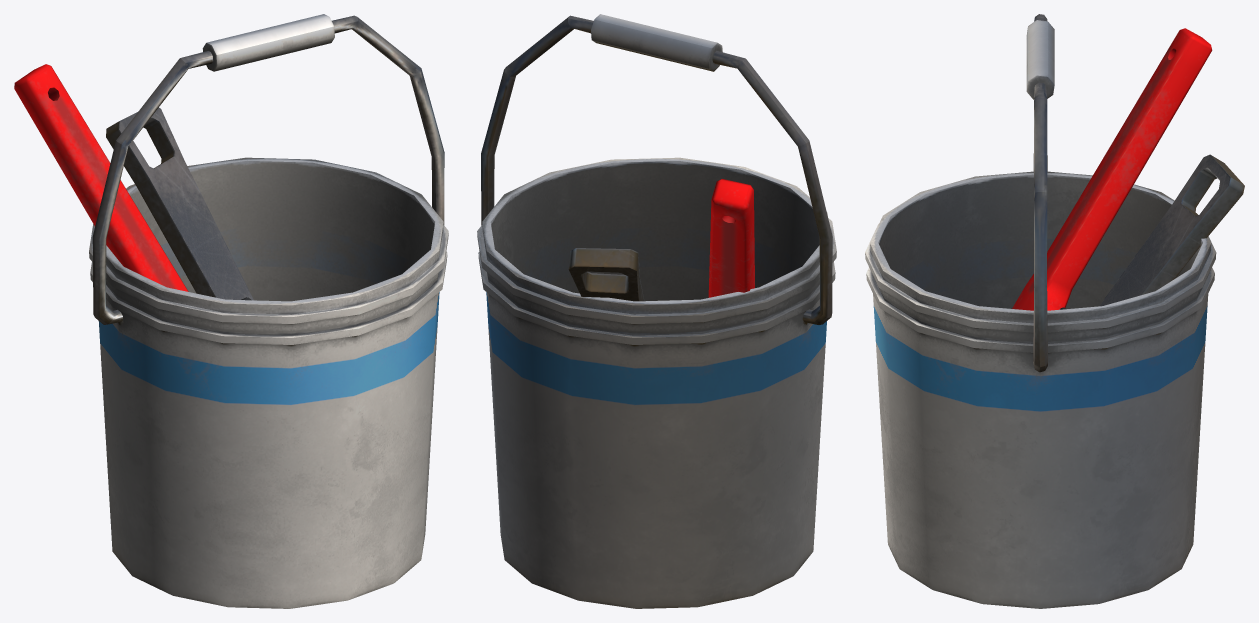
Rendered from bucket.fbx.
3 views of the same model, side by side, from view 1: azimuth 30°, elevation 25°; view 2: azimuth 150°, elevation 25°; view 3: azimuth 270°, elevation 25° (orthographic). The views are drawn at different scales.
Visible parts, largest first — view 1: Bucket, tool_MonkeySpanner, tool_Wrench; view 2: Bucket, tool_MonkeySpanner, tool_Wrench; view 3: Bucket, tool_MonkeySpanner, tool_Wrench.
Part boxes in pixels (box(x1,y1,x2,y2)): Bucket: box(89, 14, 448, 608); tool_MonkeySpanner: box(14, 64, 251, 300); tool_Wrench: box(106, 107, 253, 300); Bucket: box(477, 14, 836, 608); tool_MonkeySpanner: box(708, 179, 754, 297); tool_Wrench: box(568, 248, 644, 301); Bucket: box(865, 14, 1216, 608); tool_MonkeySpanner: box(1012, 28, 1212, 310); tool_Wrench: box(1099, 154, 1244, 306).
Size of the model in its own units: 20.37 by 28.54 by 19.79.
